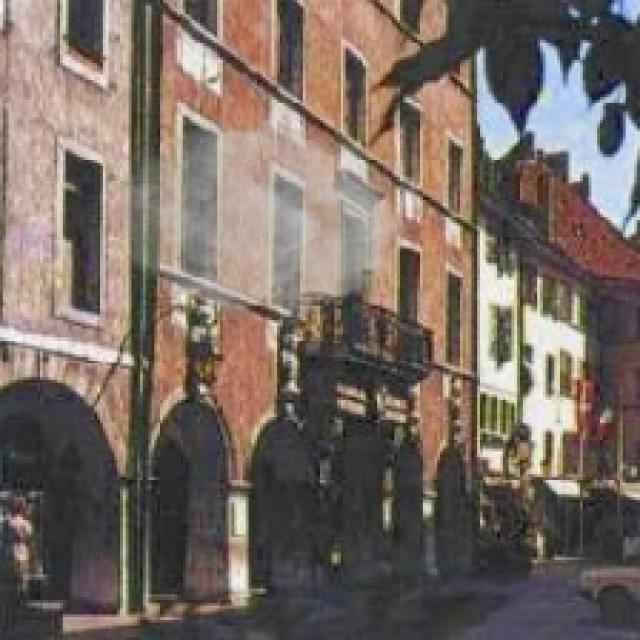smoke: (123, 108, 403, 326)
